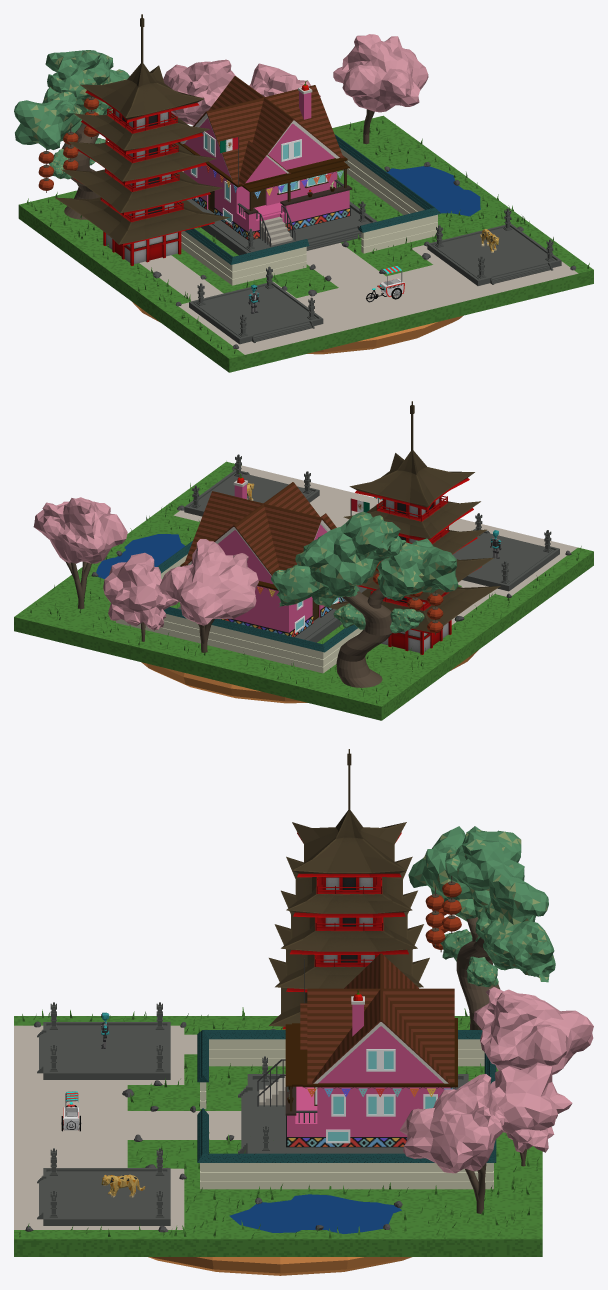
3 renders of one model, top to bottom at view 1: azimuth 30°, elevation 25°; view 2: azimuth 150°, elevation 25°; view 3: azimuth 270°, elevation 25°, orthographic. The views are drawn at different scales.
Parts seen in each view (by area): view 1: Cube.005, Cube.1005, UNDERGROUND_PIZZA, VEHICLES_SNOWBAL_BIKE; view 2: Cube.005, Cube.1005, UNDERGROUND_PIZZA; view 3: Cube.005, Cube.1005, UNDERGROUND_PIZZA.
Boxes of the visible parts, x1=… form: Cube.005: x1=14, y1=14, x2=593, y2=372; Cube.1005: x1=177, y1=76, x2=352, y2=246; UNDERGROUND_PIZZA: x1=132, y1=302, x2=463, y2=354; VEHICLES_SNOWBAL_BIKE: x1=366, y1=266, x2=404, y2=302; Cube.005: x1=14, y1=401, x2=593, y2=720; Cube.1005: x1=180, y1=473, x2=369, y2=637; UNDERGROUND_PIZZA: x1=141, y1=650, x2=478, y2=703; Cube.005: x1=14, y1=749, x2=593, y2=1256; Cube.1005: x1=257, y1=953, x2=457, y2=1147; UNDERGROUND_PIZZA: x1=148, y1=1257, x2=411, y2=1275.
Size of the model in its own units: 4528 by 2902 by 4389.
Materials: 82 (7 with a texture image).
